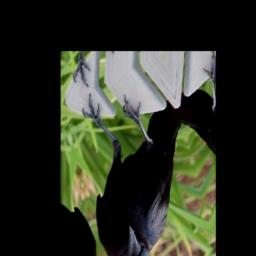Crow: (63, 54, 214, 256)
